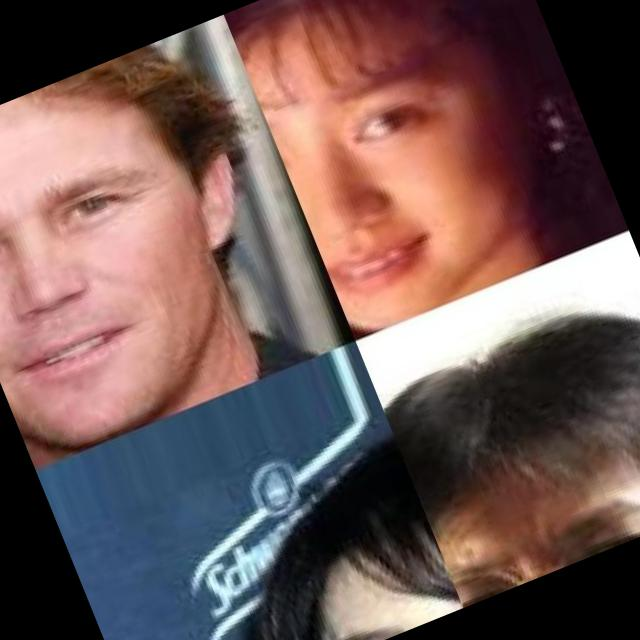bareface: (0, 55, 260, 453)
